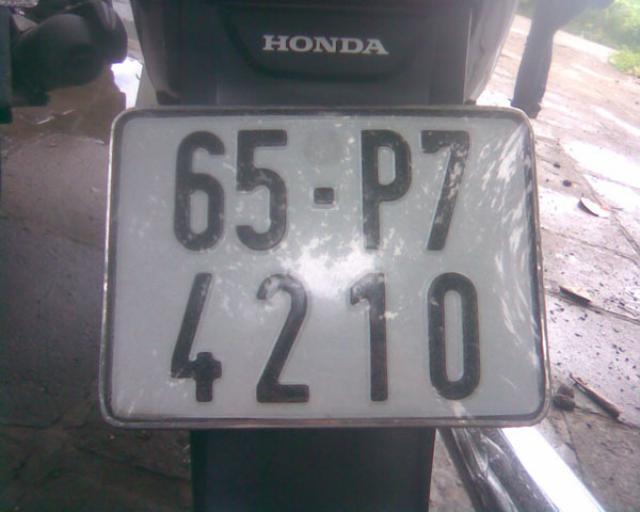plate: (122, 111, 550, 421)
